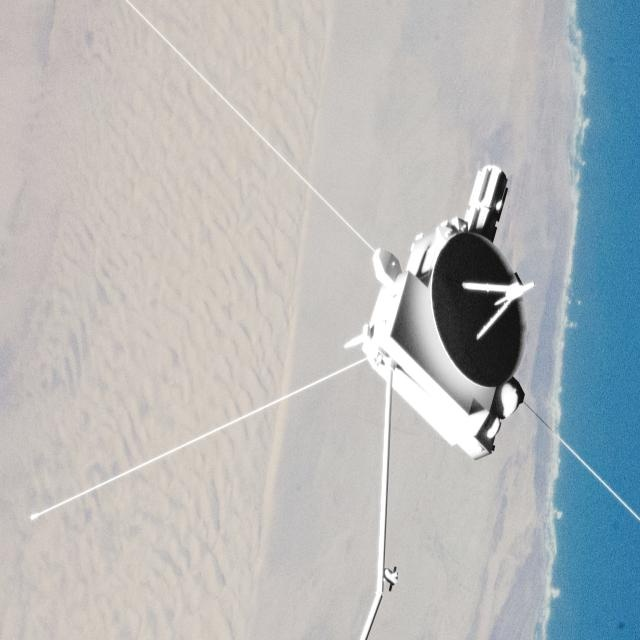satellite: (243, 142, 640, 561)
